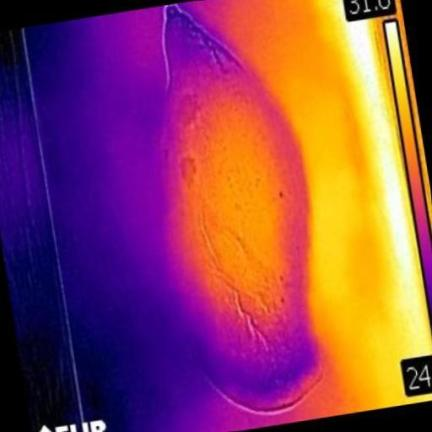mango: (161, 5, 320, 409)
